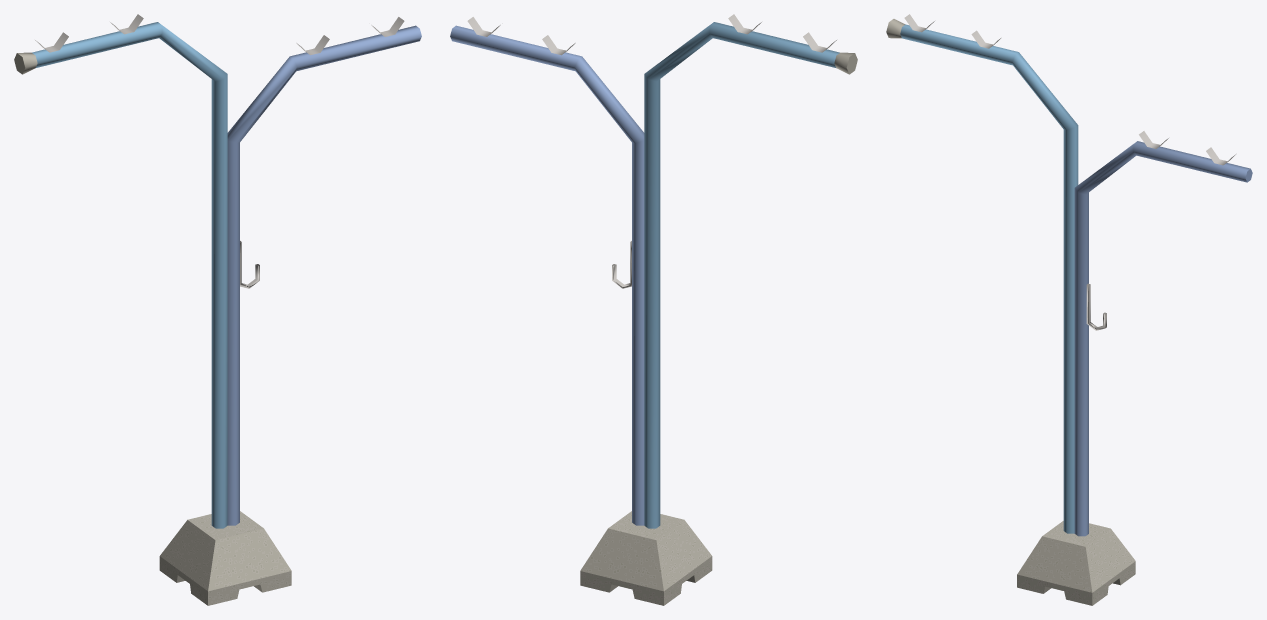
File: 04ac_Laundry_Deck.glb
3 renders of one model, left to right at view 1: azimuth 30°, elevation 25°; view 2: azimuth 150°, elevation 25°; view 3: azimuth 330°, elevation 25°, orthographic. The views are drawn at different scales.
Visible parts, largest first — view 1: part_0; view 2: part_0; view 3: part_0.
Part boxes in pixels (x1,y1,x2,y2): part_0: [14, 14, 421, 605]; part_0: [450, 14, 857, 605]; part_0: [886, 14, 1252, 605].
Size of the model in its own units: 1.43 by 1.99 by 0.3.
Materials: 1 (1 with a texture image).
